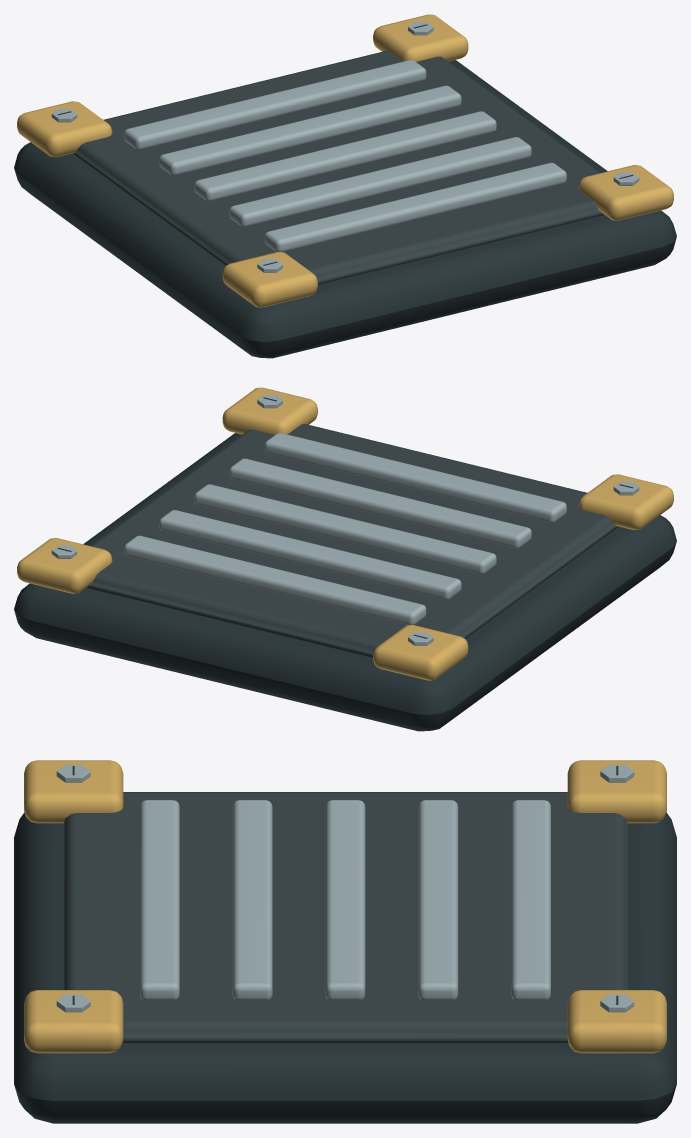
Rendered from SM_VPad.fbx.
The picture shows the model from 3 angles, top to bottom: view 1: azimuth 30°, elevation 25°; view 2: azimuth 150°, elevation 25°; view 3: azimuth 270°, elevation 25°; orthographic projection. The views are drawn at different scales.
Parts seen in each view (by area): view 1: SM_VPad; view 2: SM_VPad; view 3: SM_VPad.
Part boxes in pixels (bbox=[...]): SM_VPad: bbox=[14, 14, 676, 358]; SM_VPad: bbox=[14, 387, 676, 731]; SM_VPad: bbox=[14, 760, 676, 1123].
Bounding box in the file's own units: 100 × 100 × 18.59.
